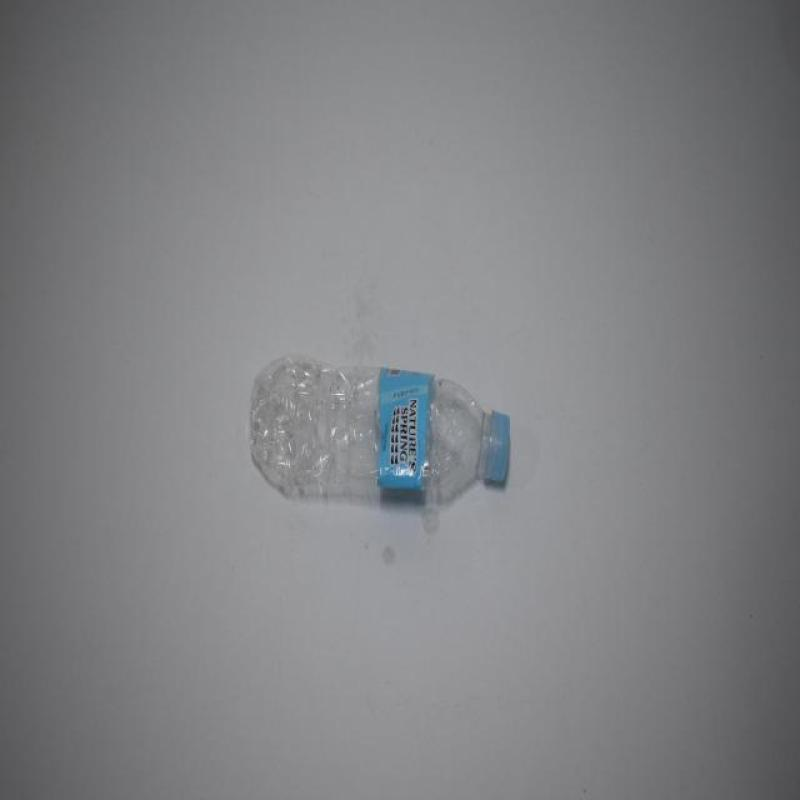botella: (249, 354, 512, 511)
